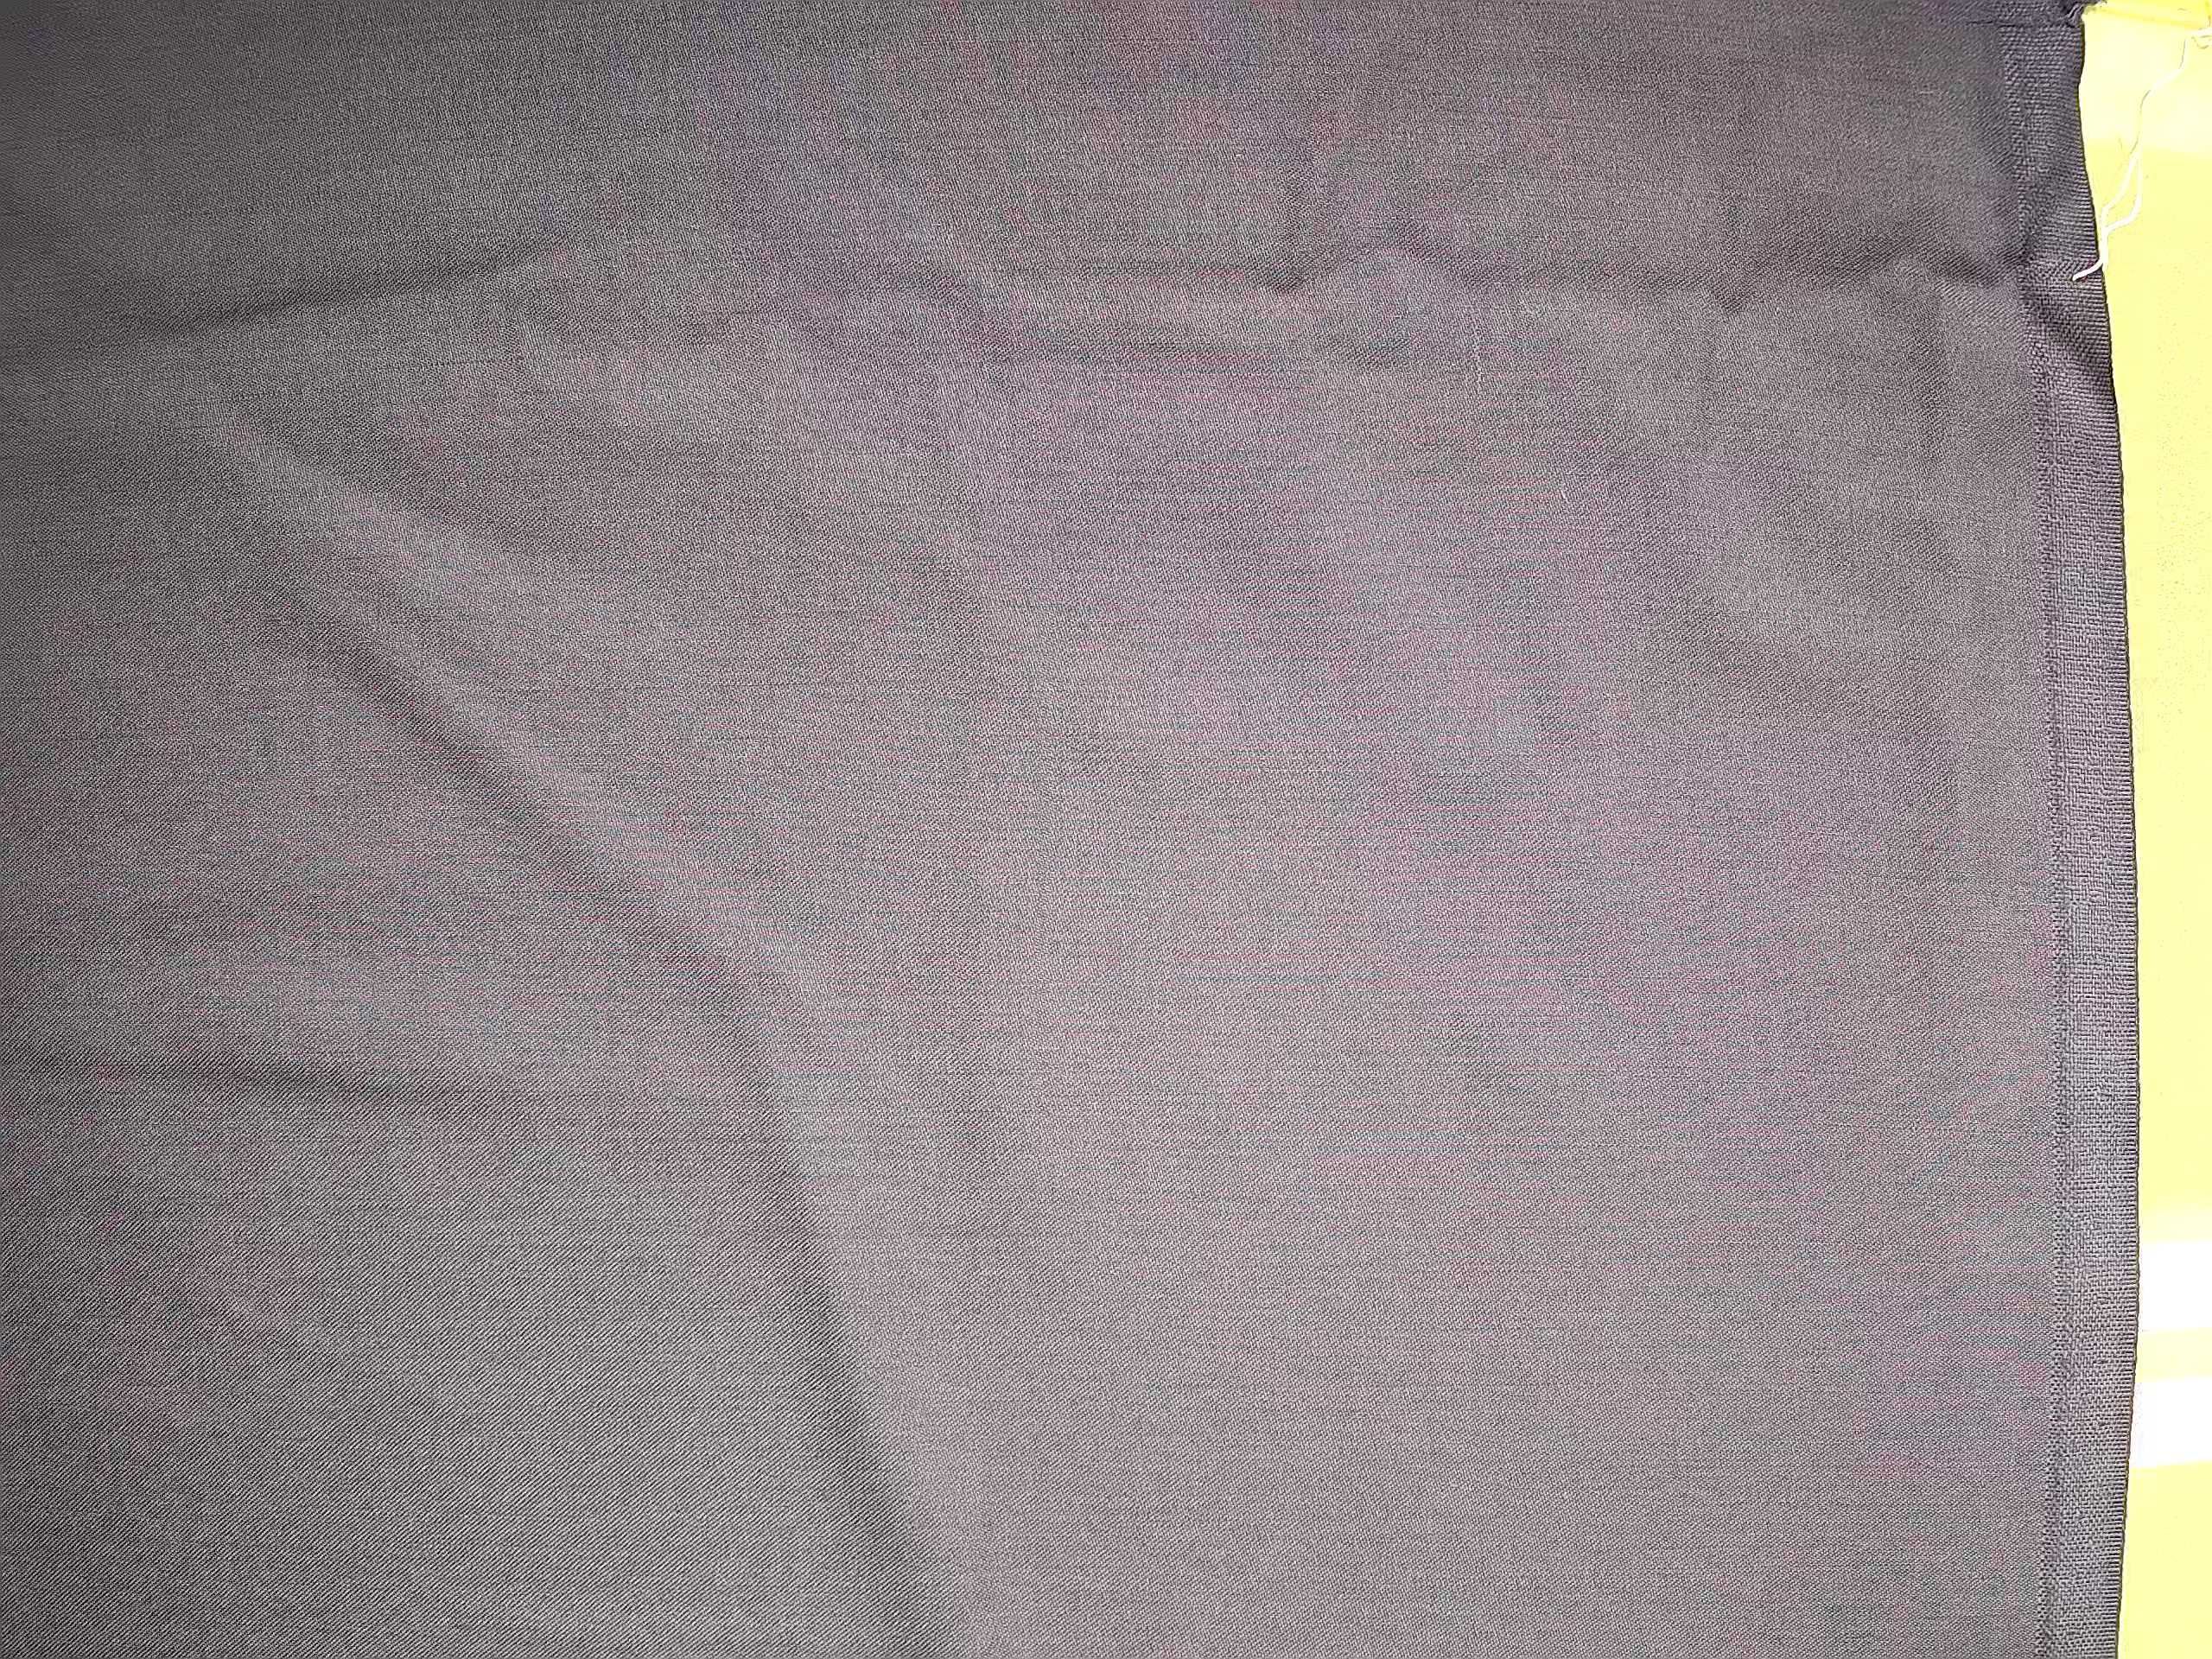jumps: (1439, 254, 1521, 427)
